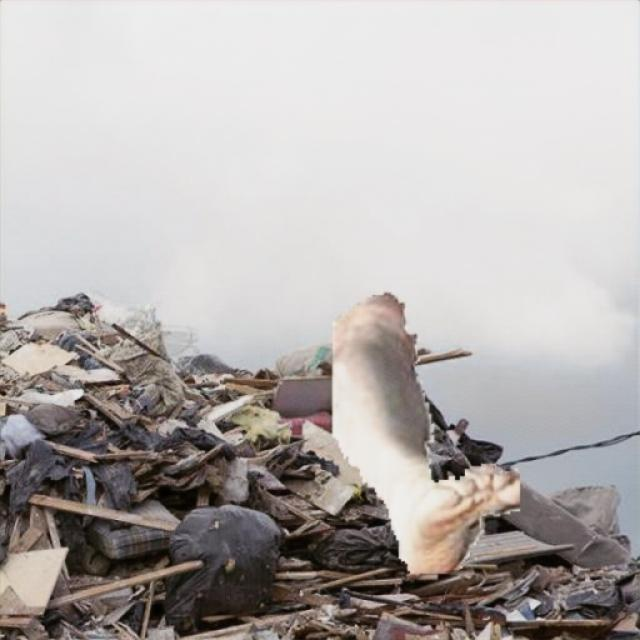Person in Rubble: (332, 292, 518, 572)
